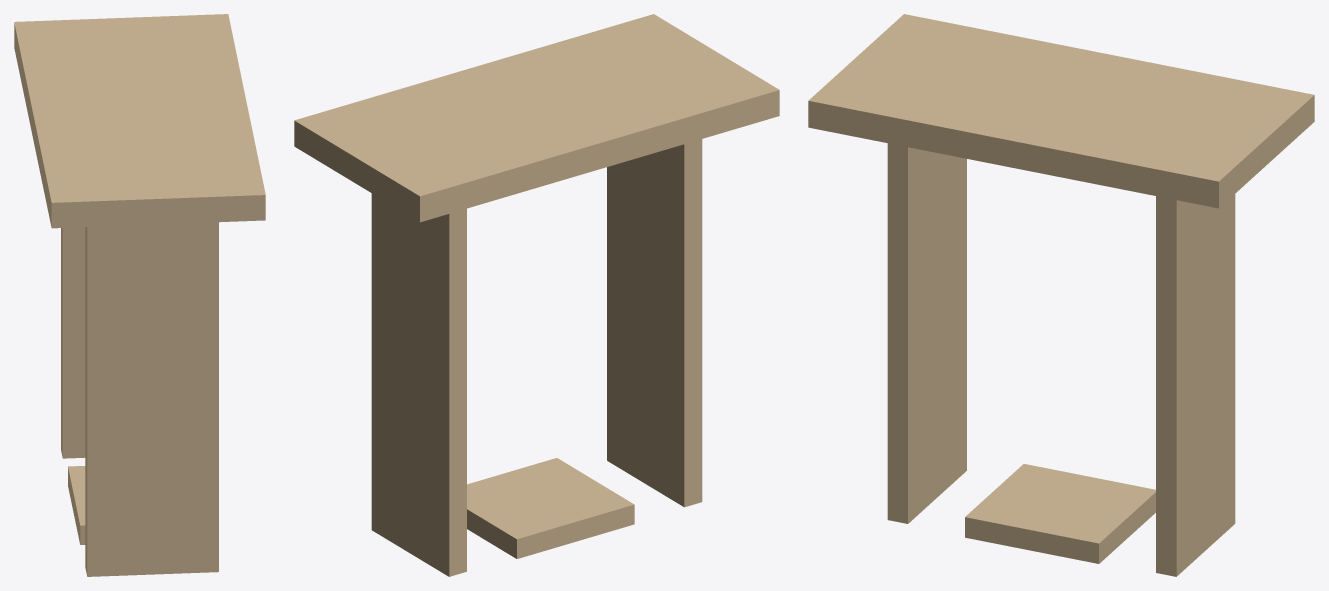
File: beso-slim-manager-table.glb
The picture shows the model from 3 angles, left to right: view 1: azimuth 30°, elevation 25°; view 2: azimuth 150°, elevation 25°; view 3: azimuth 270°, elevation 25°; orthographic projection. The views are drawn at different scales.
Bounding box in the file's own units: 45.54 × 54 × 58.12.
